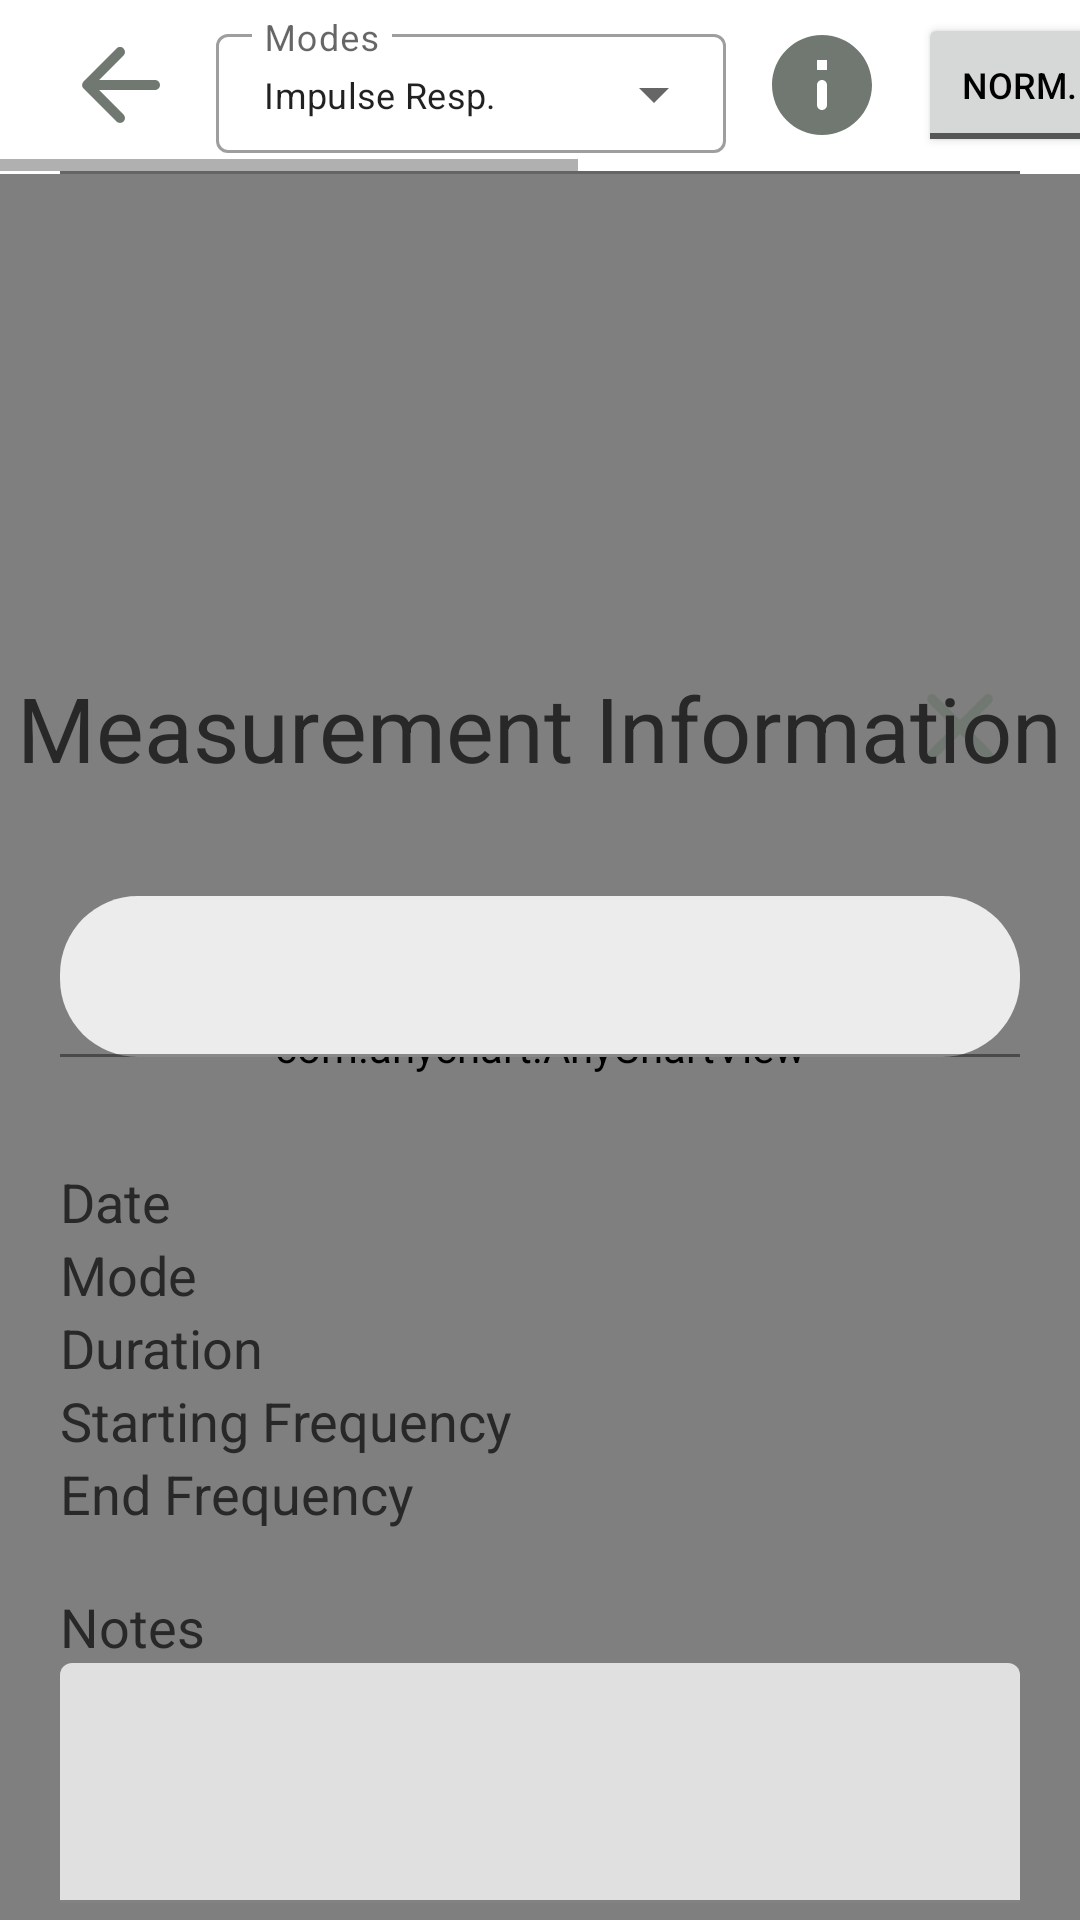

Where to tap for icons on this 1080×1920 app screen, as (x=x, y=y):
back: (x=121, y=85)
chart info: (x=822, y=85)
